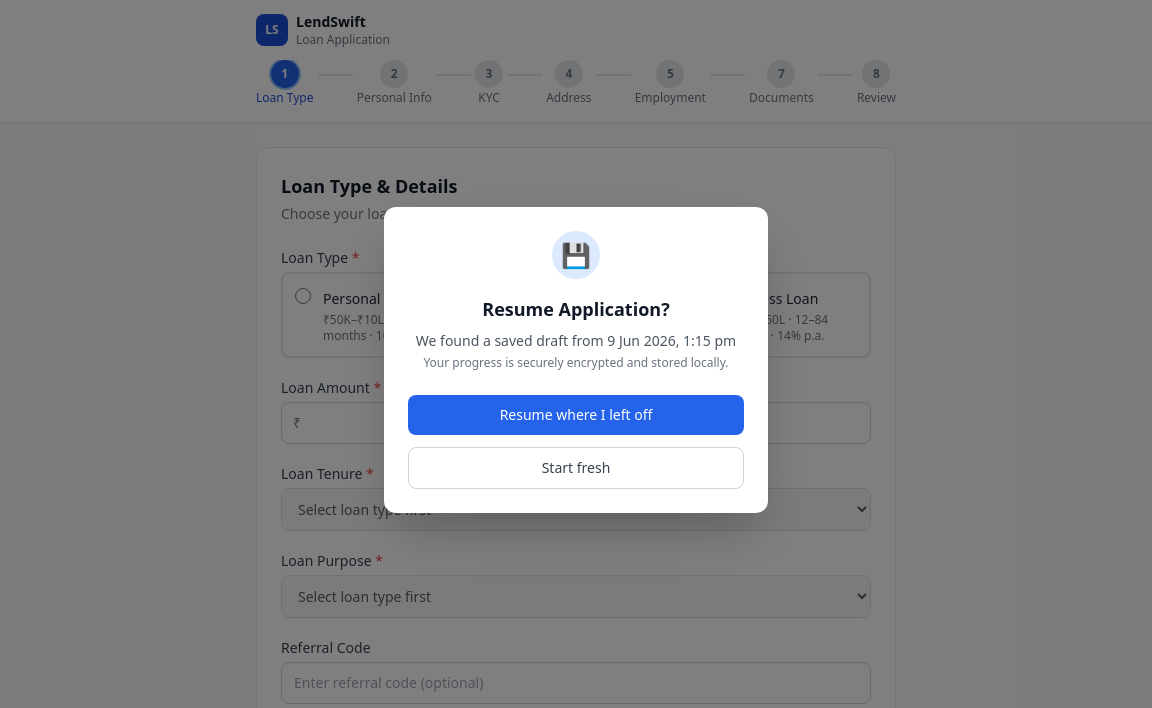
Test: Auto-Save & Resume (#12 P0) › shows resume modal after reload if draft exists
Expected: the heading "Resume Application?" is shown, [482,297,670,321]
Click the button "Resume where I left off": (576,415) [408,395,744,435]
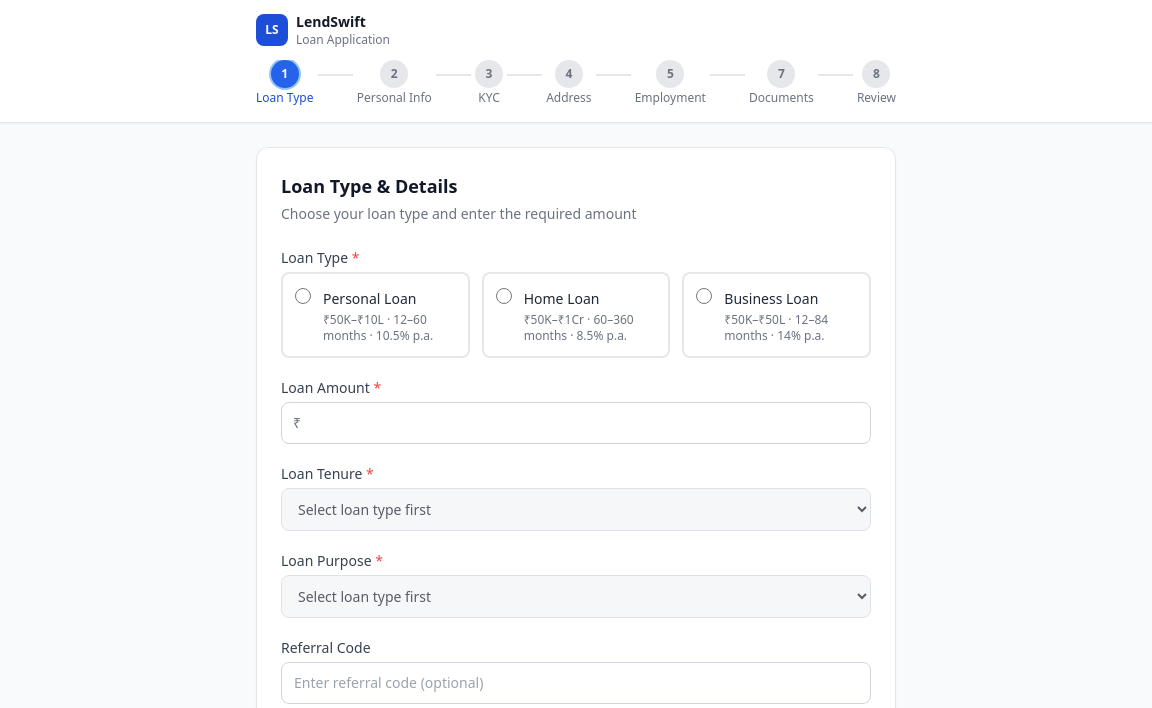
Expected: the heading "Resume Application?" is gone
